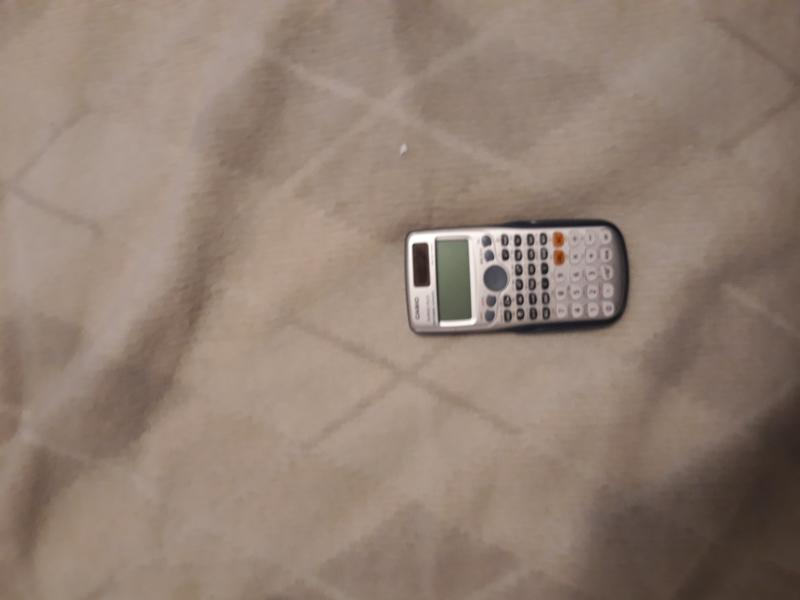CASIO_fx_991ES_PLUS: (381, 214, 632, 350)
